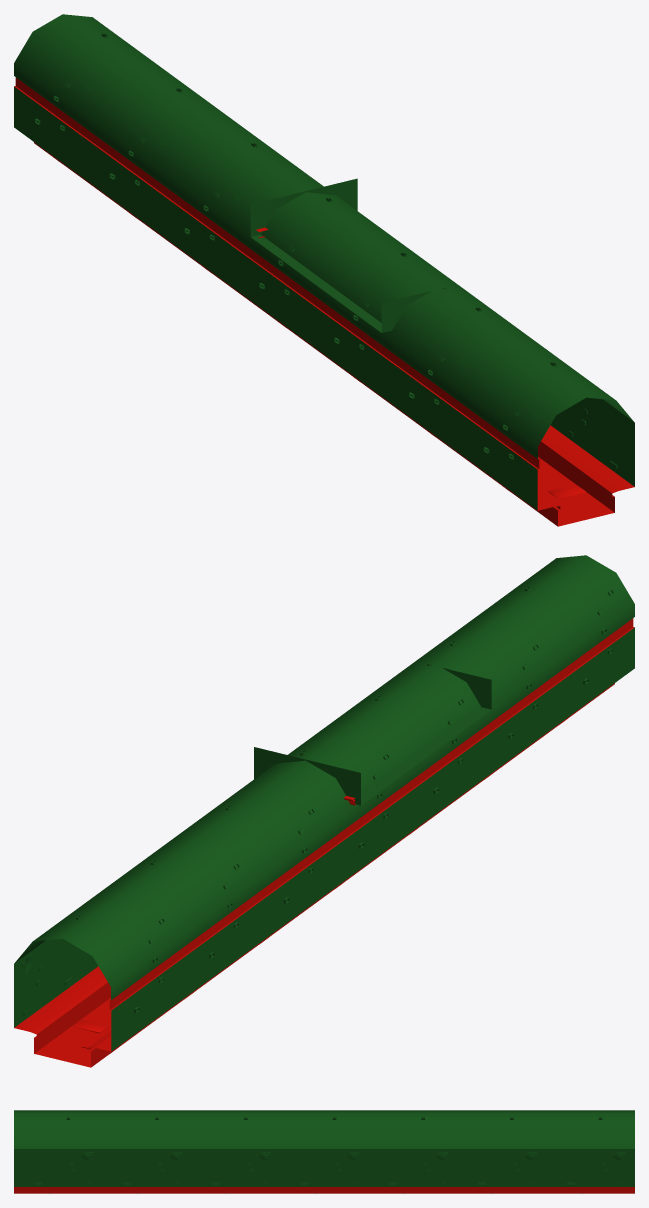
Rendered from industrialCorridor.dae.
The picture shows the model from 3 angles, top to bottom: view 1: azimuth 30°, elevation 25°; view 2: azimuth 150°, elevation 25°; view 3: azimuth 270°, elevation 25°; orthographic projection. The views are drawn at different scales.
Visible parts, largest first — view 1: corridor, Plane; view 2: corridor, Plane; view 3: corridor.
Boxes of the visible parts, <box> form: corridor: <box>14,14,634,526</box>; Plane: <box>250,178,446,332</box>; corridor: <box>14,555,634,1067</box>; Plane: <box>254,664,491,805</box>; corridor: <box>14,1110,634,1193</box>.
Size of what is drawn, in the model's own units: 3.3 by 28 by 3.64.
